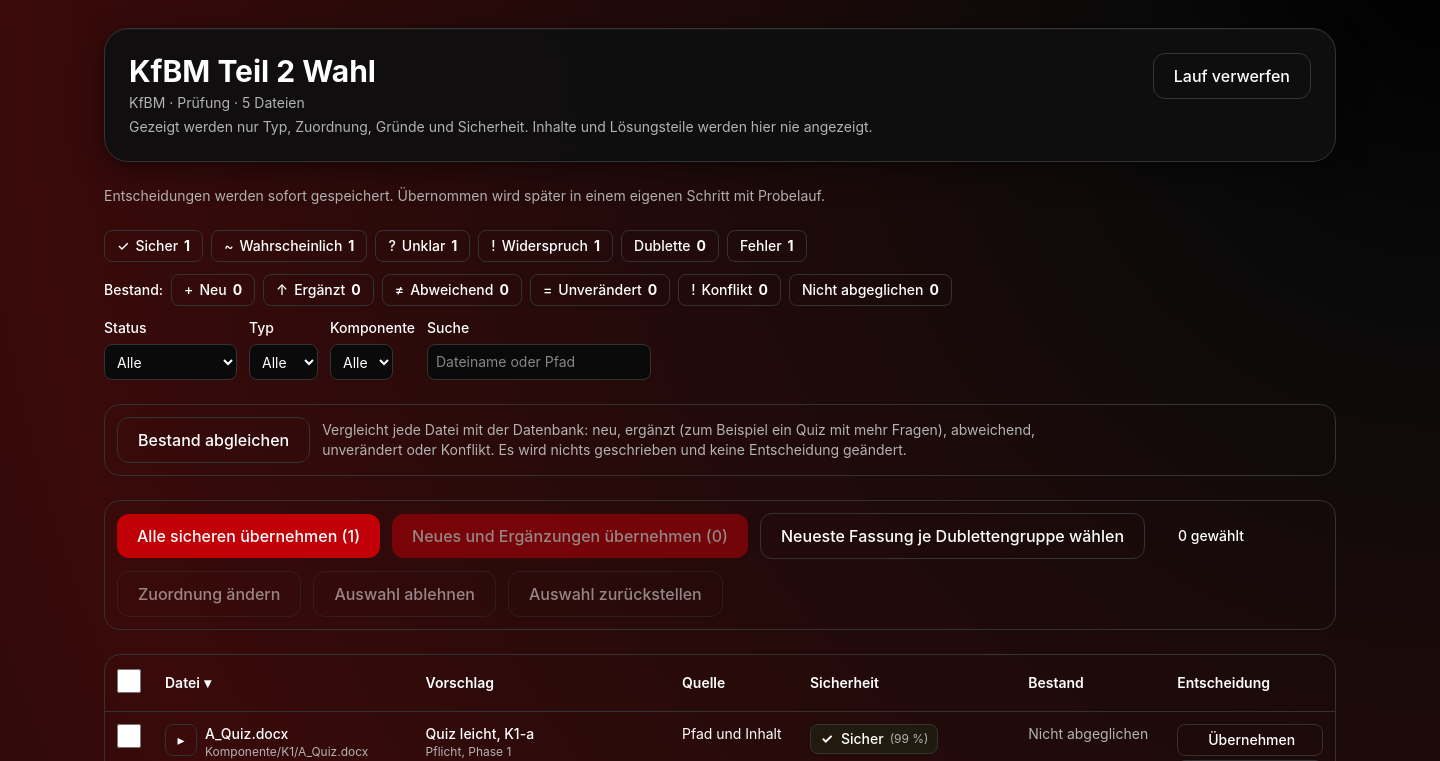
Scenario: ReviewView: filters and paging › says when no file matches and offers to reset the filter
Step 1. Click the button "? Unklar 1" → (423, 246), box [375,230,470,262]
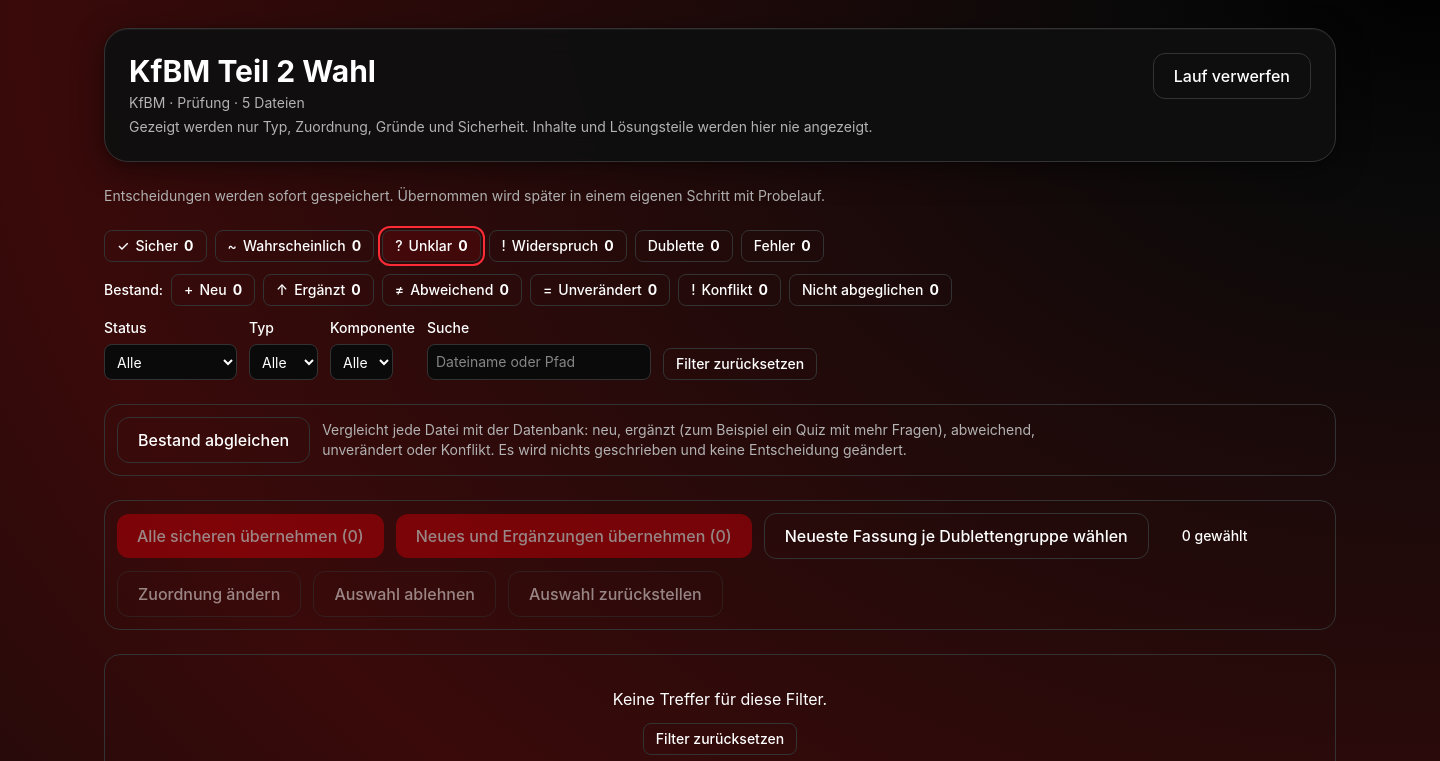
Check: the text "Keine Treffer für diese Filter." is shown, box [613,689,827,709]
Step 2. Click the button "Filter zurücksetzen" below "Komponente" → (740, 364), box [663,348,817,380]
(page scrolled)
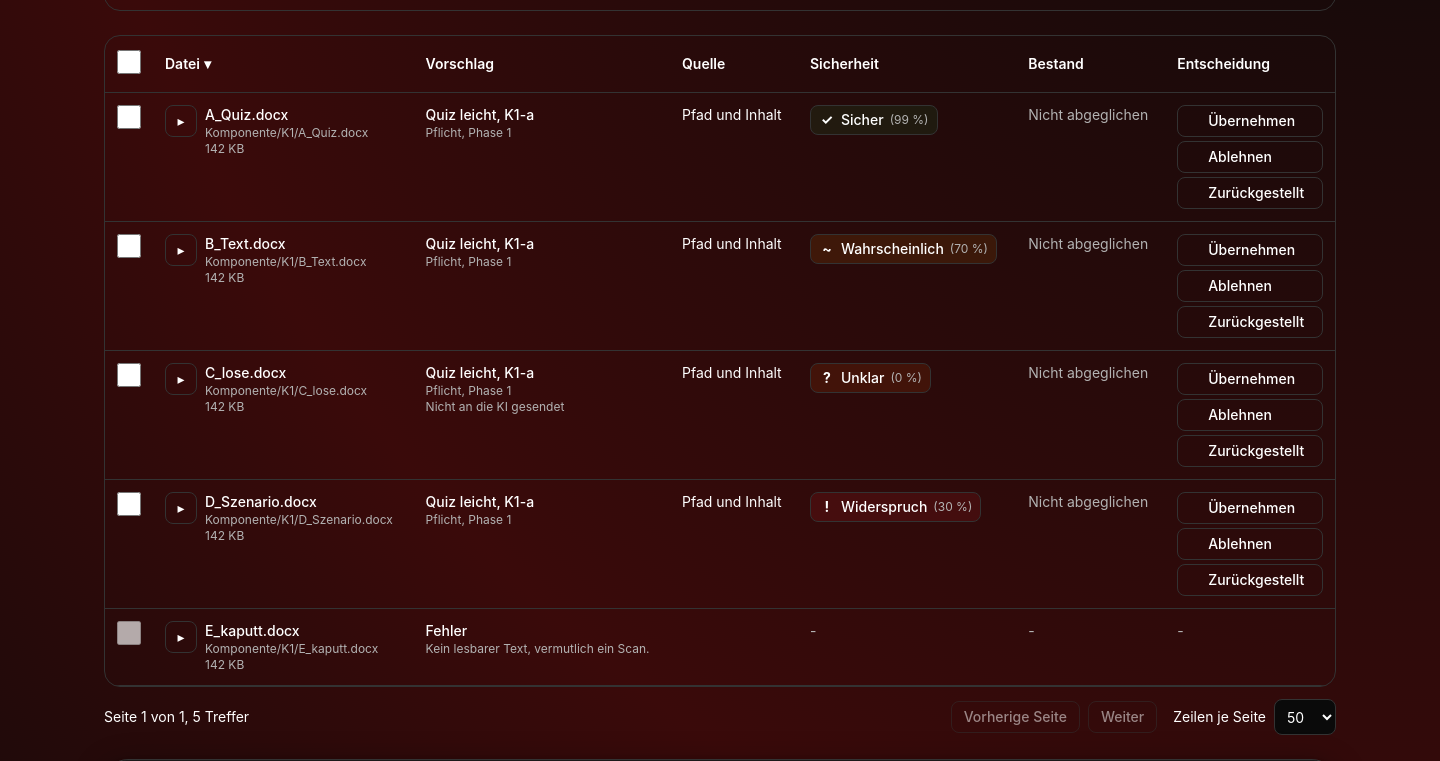
Check: the table is shown
